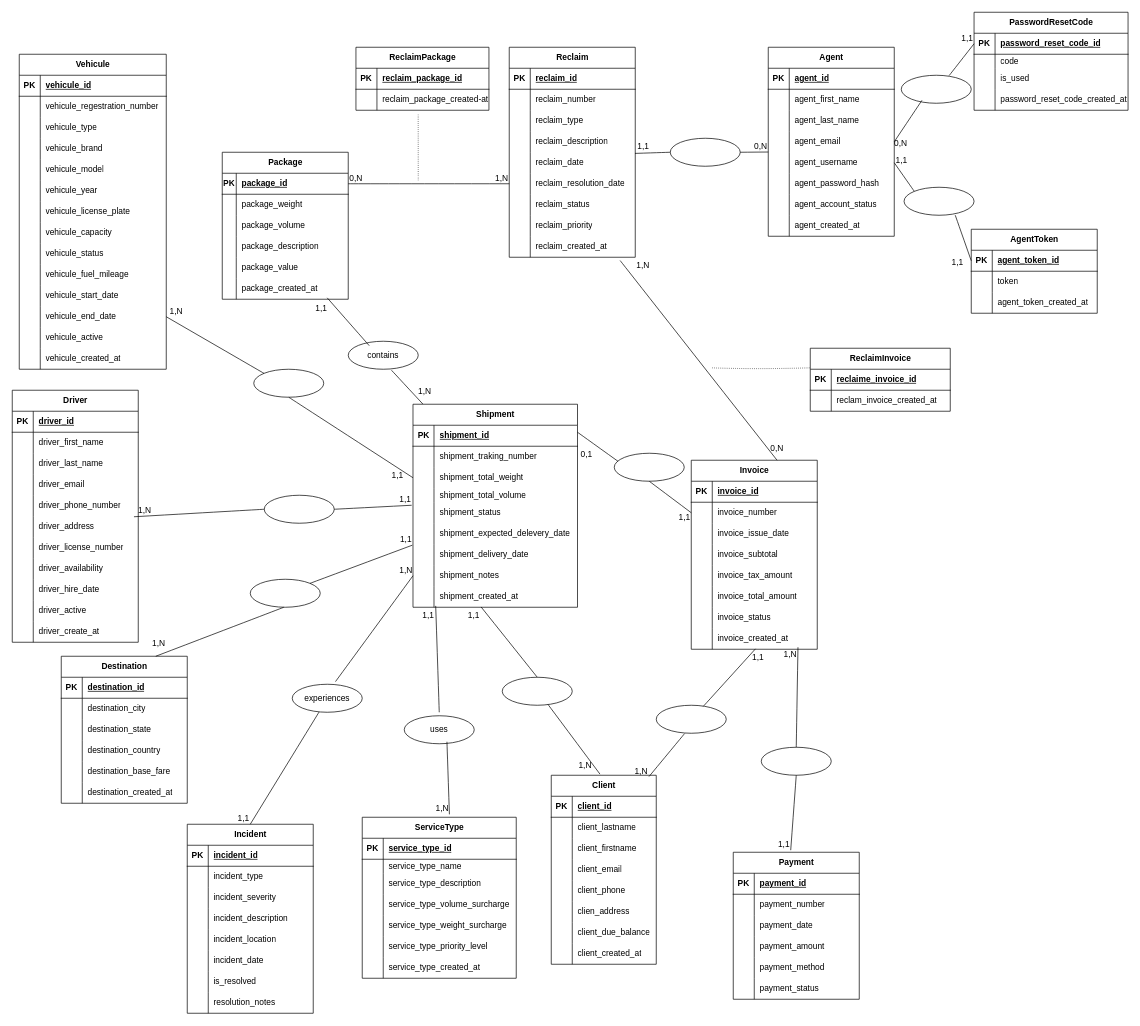
Image size: 1140x1026. Some labels were removed from this diagram. Here are the shapes that lost their labels. From the top down, the centre of each, then its label:
At (x=936, y=89): "requests".
At (x=705, y=152): "resolves".
At (x=938, y=201): "owns".
At (x=288, y=383): "is transported by".
At (x=649, y=467): "generates".
At (x=299, y=509): "assigned to".
At (x=285, y=593): "goes to".
At (x=537, y=691): "has".
At (x=691, y=719): "receives".
At (x=796, y=761): "pays".
